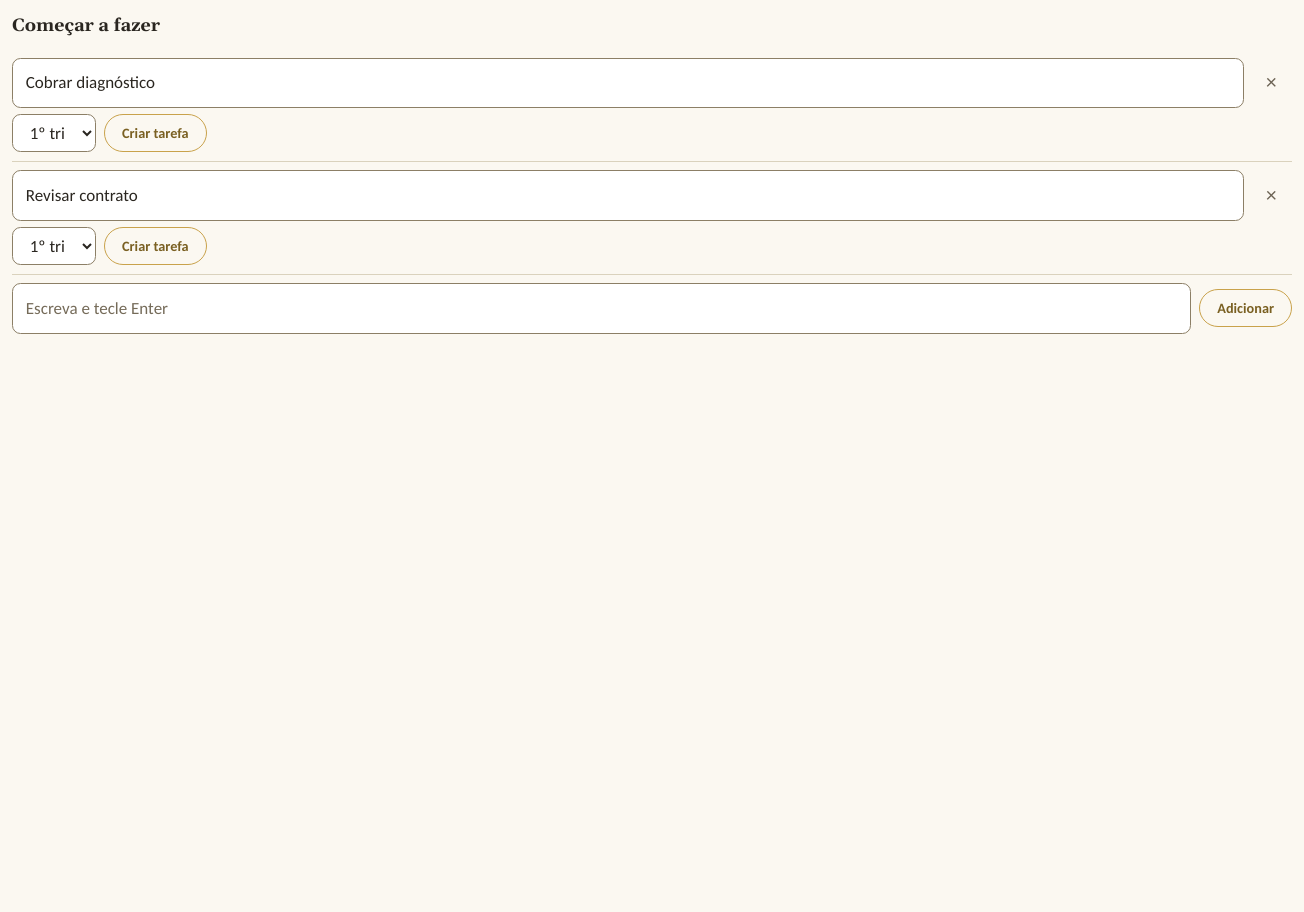
Test: desfazer a remoção não apaga o que foi editado depois
Click the button named "Remover: Cobrar diagnóstico" at (1270, 83), box left=1248, top=59, right=1292, bottom=106
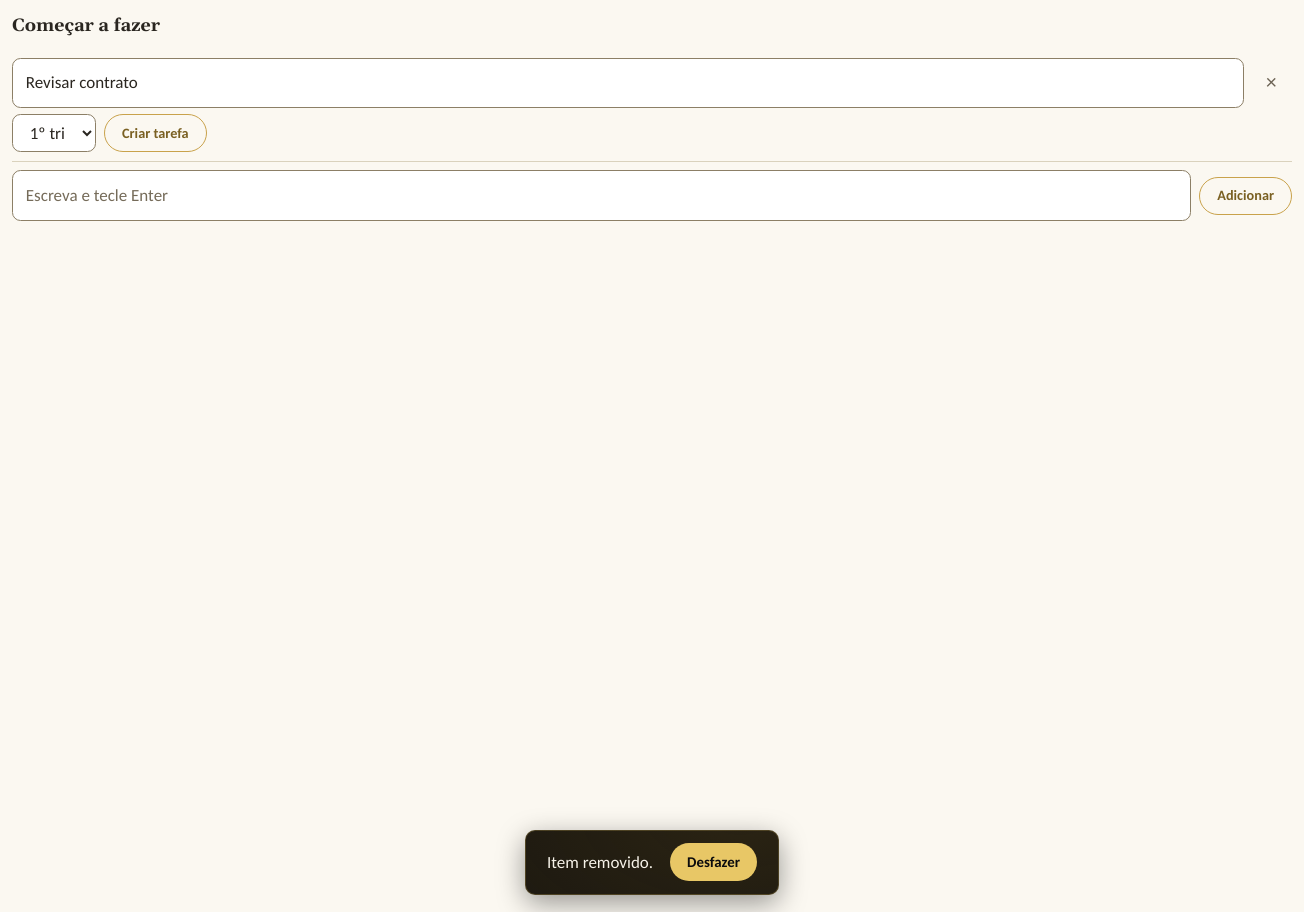
Replace the text in the field named "Começar a fazer, item 1" with "Revisar contrato social" at (628, 83), box left=12, top=58, right=1244, bottom=108
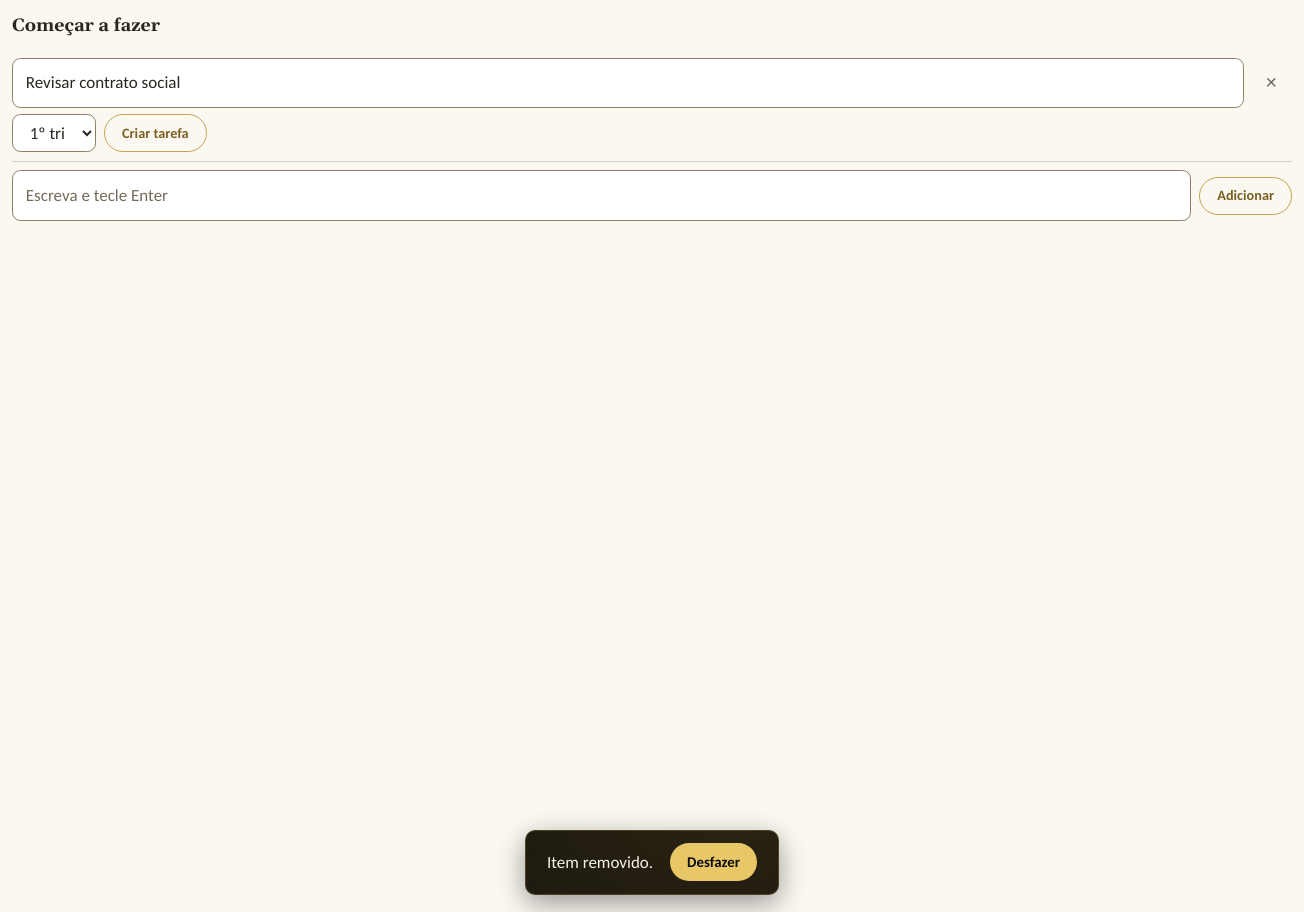
Click the button "Desfazer" at (714, 862), box left=670, top=843, right=757, bottom=881
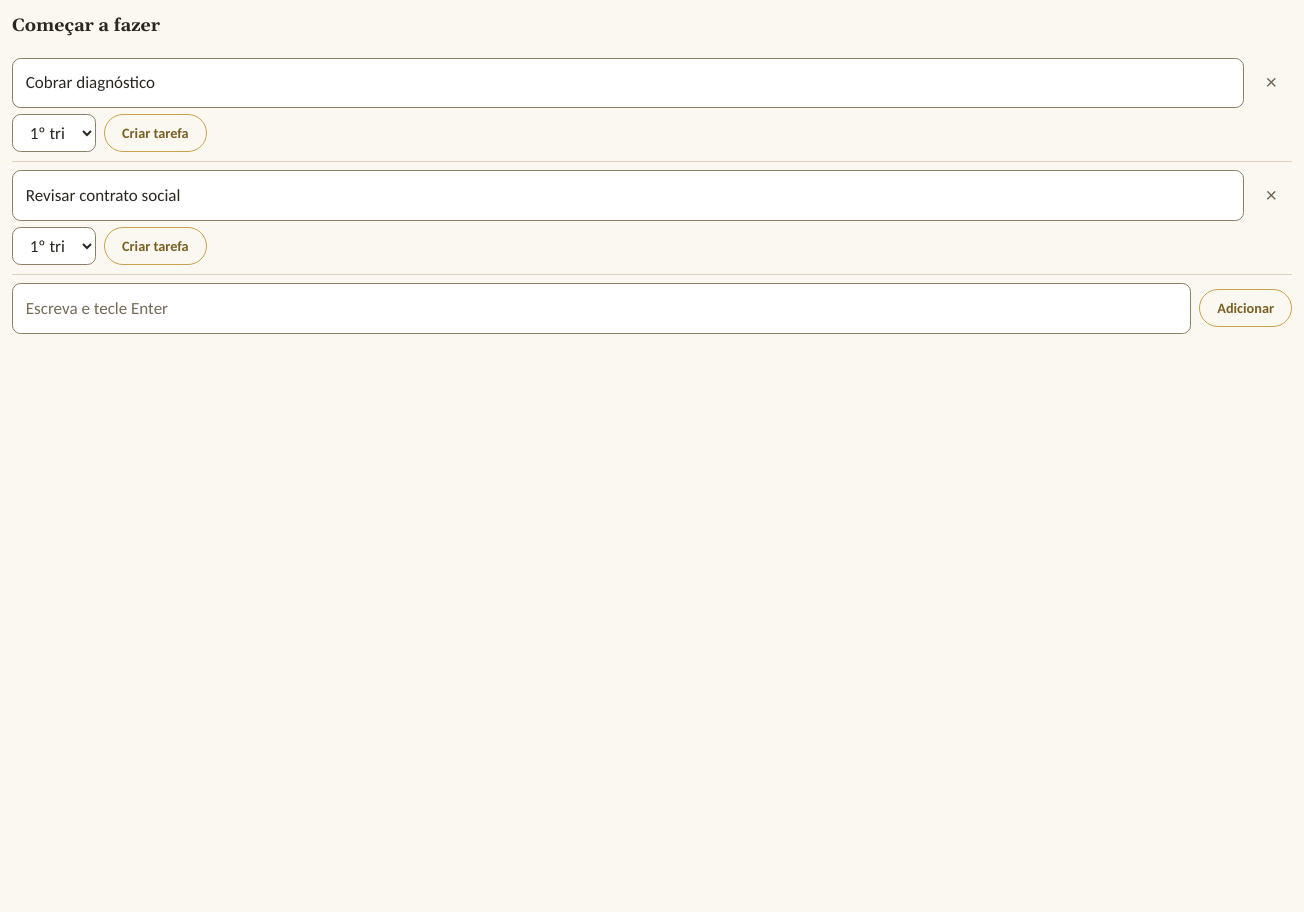
Expected: the field named "Começar a fazer, item 1" holds "Cobrar diagnóstico", left=12, top=58, right=1244, bottom=108
